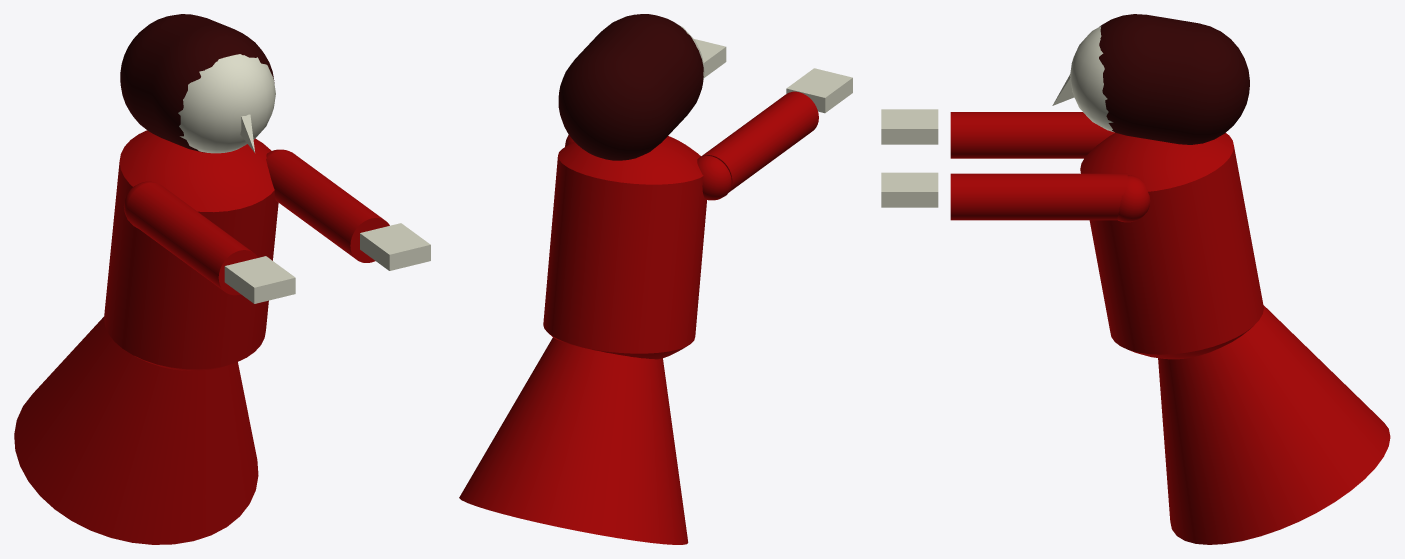
File: girl.fbx
3 views of the same model, side by side, from view 1: azimuth 30°, elevation 25°; view 2: azimuth 150°, elevation 25°; view 3: azimuth 270°, elevation 25° (orthographic). The views are drawn at different scales.
Parts seen in each view (by area): view 1: Cone, Oil_Tank, hair, head, Cylinder_1, Cylinder_1_2, Cube_3, Cube, Cube_2, Cube_4; view 2: Cone, Oil_Tank, hair, Cylinder_1, Cube_4, Sphere_2, Cube_3, Cube; view 3: Cone, Oil_Tank, hair, Cylinder_1_2, Cylinder_1, head, Cube, Cube_3, Sphere_2_2, Cube_4, Cube_2.
Part boxes in pixels (x1=…): Cone: x1=14, y1=317, x2=258, y2=544; Oil_Tank: x1=104, y1=130, x2=278, y2=370; hair: x1=120, y1=14, x2=274, y2=152; head: x1=178, y1=54, x2=275, y2=153; Cylinder_1: x1=126, y1=182, x2=258, y2=295; Cylinder_1_2: x1=266, y1=150, x2=389, y2=262; Cube_3: x1=230, y1=260, x2=295, y2=303; Cube: x1=366, y1=227, x2=430, y2=270; Cube_2: x1=360, y1=223, x2=424, y2=266; Cube_4: x1=224, y1=256, x2=288, y2=297; Cone: x1=459, y1=337, x2=688, y2=544; Oil_Tank: x1=543, y1=136, x2=706, y2=359; hair: x1=558, y1=14, x2=703, y2=160; Cylinder_1: x1=699, y1=91, x2=818, y2=191; Cube_4: x1=786, y1=72, x2=847, y2=113; Sphere_2: x1=697, y1=155, x2=731, y2=200; Cube_3: x1=794, y1=68, x2=852, y2=108; Cube: x1=694, y1=39, x2=726, y2=77; Cone: x1=1158, y1=305, x2=1390, y2=544; Oil_Tank: x1=1080, y1=132, x2=1263, y2=359; hair: x1=1099, y1=14, x2=1249, y2=144; Cylinder_1_2: x1=950, y1=173, x2=1127, y2=220; Cylinder_1: x1=950, y1=112, x2=1114, y2=158; head: x1=1070, y1=26, x2=1114, y2=132; Cube: x1=881, y1=172, x2=926, y2=207; Cube_3: x1=881, y1=109, x2=926, y2=144; Sphere_2_2: x1=1117, y1=175, x2=1150, y2=222; Cube_4: x1=892, y1=109, x2=938, y2=144; Cube_2: x1=892, y1=172, x2=938, y2=207.
Size of the model in its own units: 73.71 by 171 by 157.
